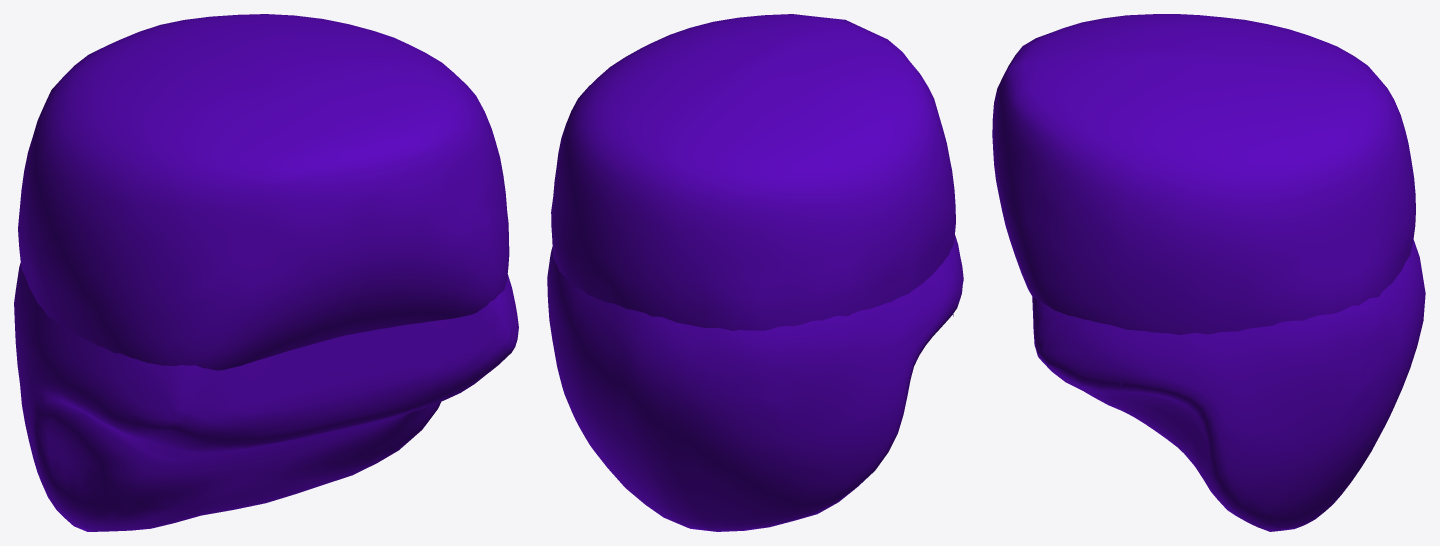
The model's file is Hair_Base_Hightop_017.fbx.
The picture shows the model from 3 angles, left to right: view 1: azimuth 30°, elevation 25°; view 2: azimuth 150°, elevation 25°; view 3: azimuth 270°, elevation 25°; orthographic projection. The views are drawn at different scales.
Parts seen in each view (by area): view 1: Hair_Base_17Hightop_17; view 2: Hair_Base_17Hightop_17; view 3: Hair_Base_17Hightop_17.
Part boxes in pixels (<box>): Hair_Base_17Hightop_17: <box>14,14,518,531</box>; Hair_Base_17Hightop_17: <box>547,14,963,531</box>; Hair_Base_17Hightop_17: <box>992,14,1425,531</box>.
Bounding box in the file's own units: 148 × 170 × 149.
